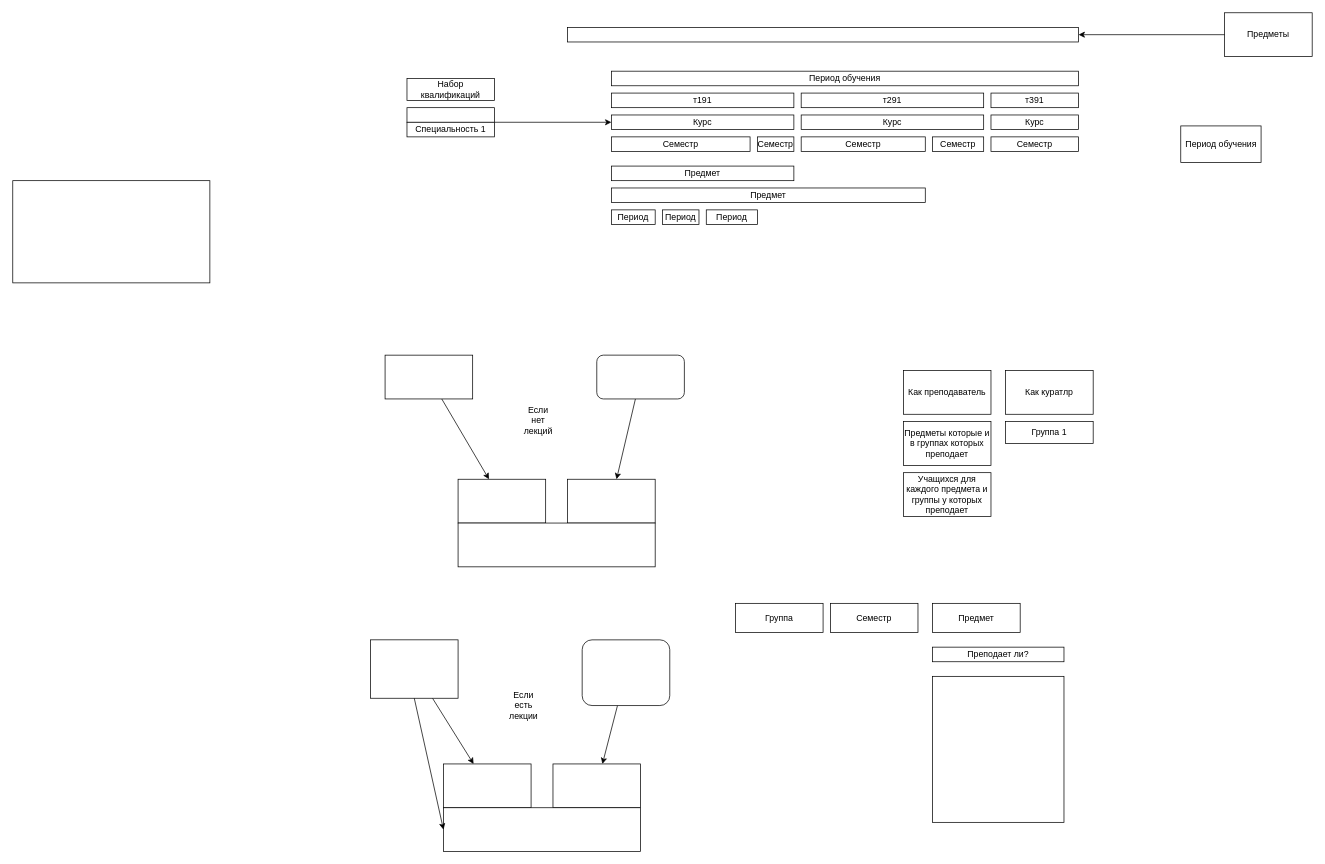
Some shapes in this 1325 by 864 pixel diagram are drawn without their labels. The shapes that lost their labels are listed below. From the top down, each one's centre as x and y in pixels, then its label:
[823,34]: Техник программист
[450,114]: Квалификация 1
[111,231]: dsfd
[414,668]: Лекционный преподаватель. Ставит оценки у 2 и сдает ведомости
[625,672]: Обычный преподаватель выставляет только зачет. Ведомости не сдает.
[998,749]: Список учащихся у которых преподает
